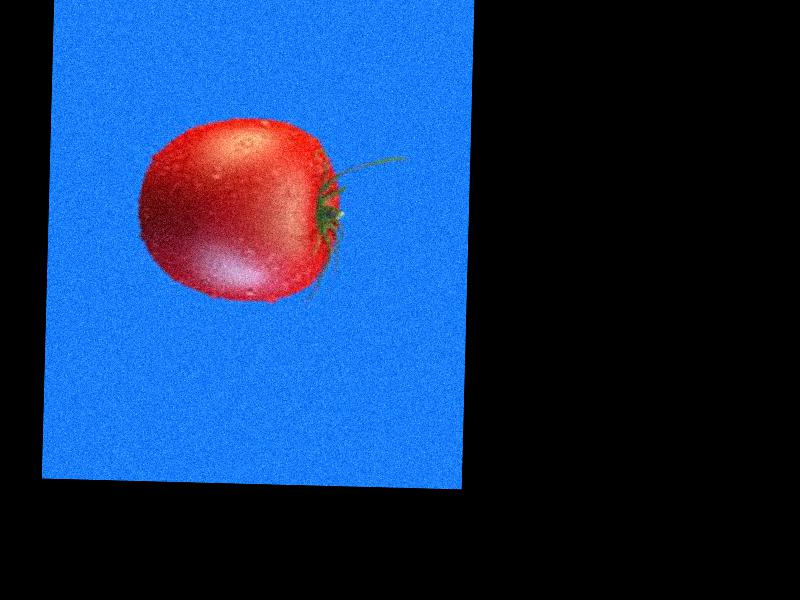Tomato: (136, 115, 343, 305)
